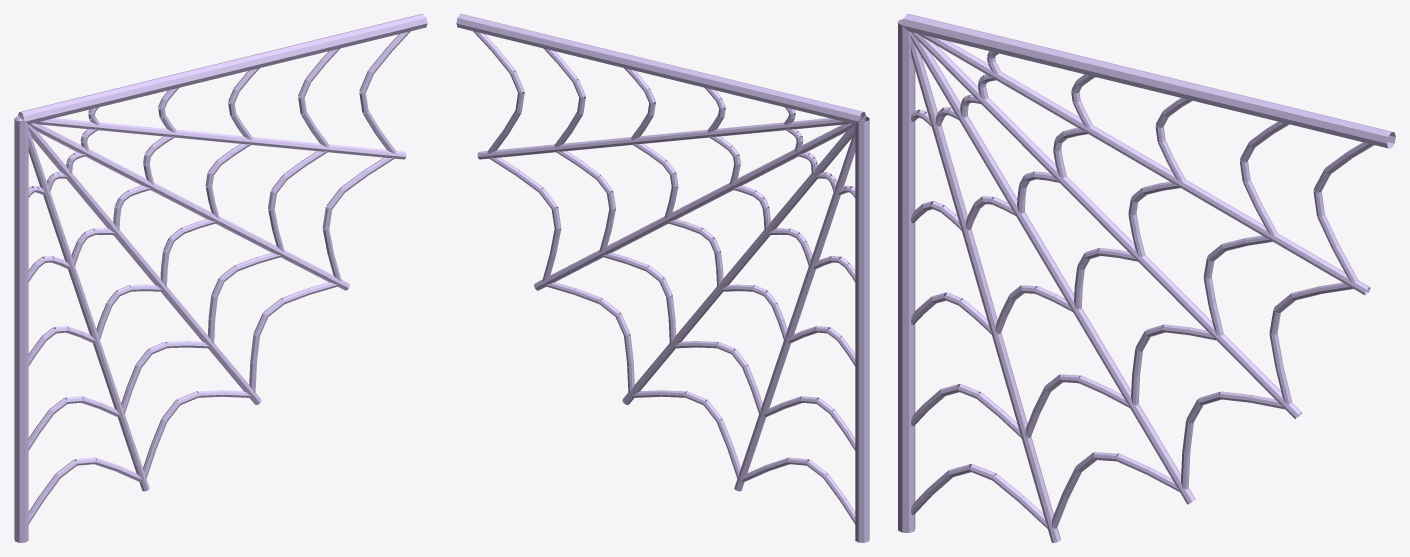
Rendered from 02_cobweb_corner.obj.
3 views of the same model, side by side, from view 1: azimuth 30°, elevation 25°; view 2: azimuth 150°, elevation 25°; view 3: azimuth 330°, elevation 25° (orthographic). The views are drawn at different scales.
Visible parts, largest first — view 1: Cobweb_Corner; view 2: Cobweb_Corner; view 3: Cobweb_Corner.
Boxes of the visible parts, x1,y1,x2,y2 form: Cobweb_Corner: (14, 14, 427, 542); Cobweb_Corner: (456, 14, 869, 542); Cobweb_Corner: (898, 14, 1395, 542).
Bounding box in the file's own units: 2.03 × 2.03 × 0.064.
